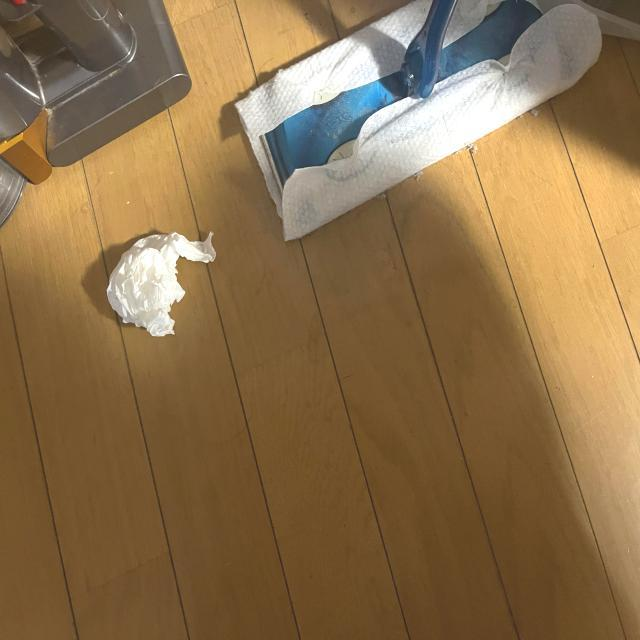Paper: (109, 223, 227, 353)
